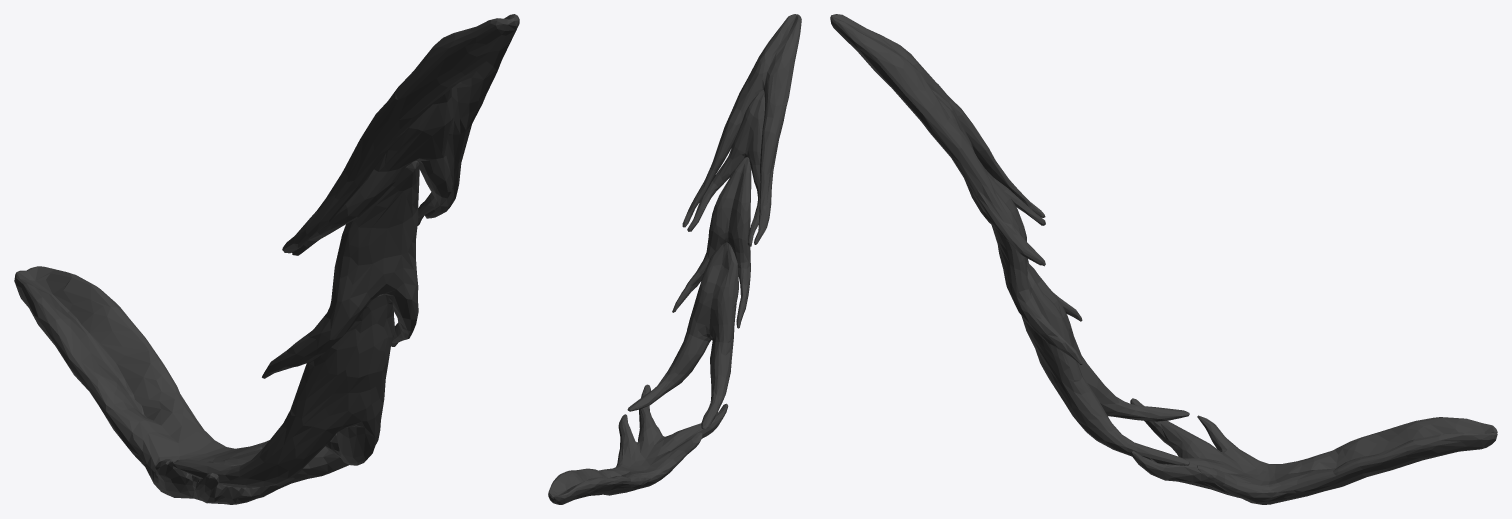
File: m_longus_colli_thoracis.glb
The picture shows the model from 3 angles, left to right: view 1: azimuth 30°, elevation 25°; view 2: azimuth 150°, elevation 25°; view 3: azimuth 270°, elevation 25°; orthographic projection. The views are drawn at different scales.
Parts seen in each view (by area): view 1: m_longus_colli_thoracis; view 2: m_longus_colli_thoracis; view 3: m_longus_colli_thoracis.
Boxes of the visible parts, x1=… form: m_longus_colli_thoracis: x1=14, y1=14, x2=519, y2=504; m_longus_colli_thoracis: x1=548, y1=14, x2=801, y2=504; m_longus_colli_thoracis: x1=830, y1=14, x2=1497, y2=504.
Bounding box in the file's own units: 0.00185 × 0.00755 × 0.00944.
1 material, 1 textured.
